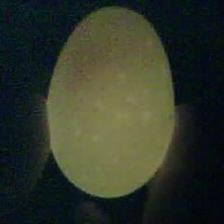infertile: (44, 5, 175, 201)
